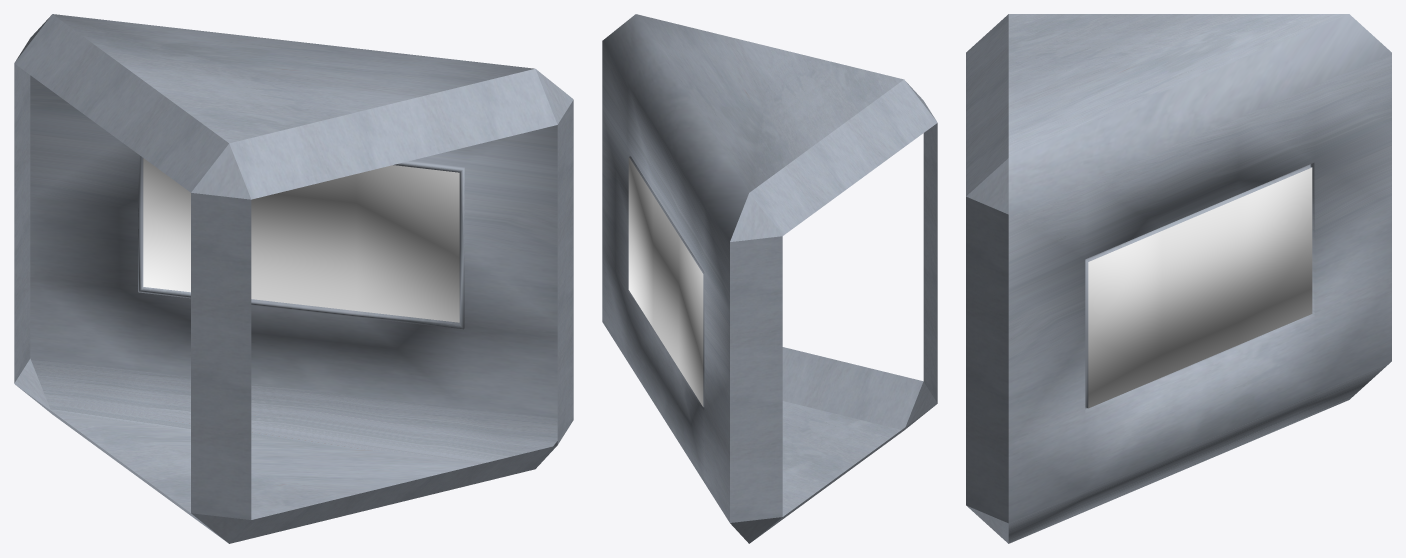
File: bend_joint.dae
3 renders of one model, left to right at view 1: azimuth 30°, elevation 25°; view 2: azimuth 150°, elevation 25°; view 3: azimuth 270°, elevation 25°, orthographic. The views are drawn at different scales.
Parts seen in each view (by area): view 1: bend_joint; view 2: bend_joint; view 3: bend_joint.
Boxes of the visible parts, box(x1,y1,x2,y2) form: bend_joint: box(14, 14, 573, 543); bend_joint: box(602, 14, 937, 543); bend_joint: box(966, 14, 1391, 543).
Size of the model in its own units: 97.44 by 97.44 by 97.44.
2 materials, 1 textured.
